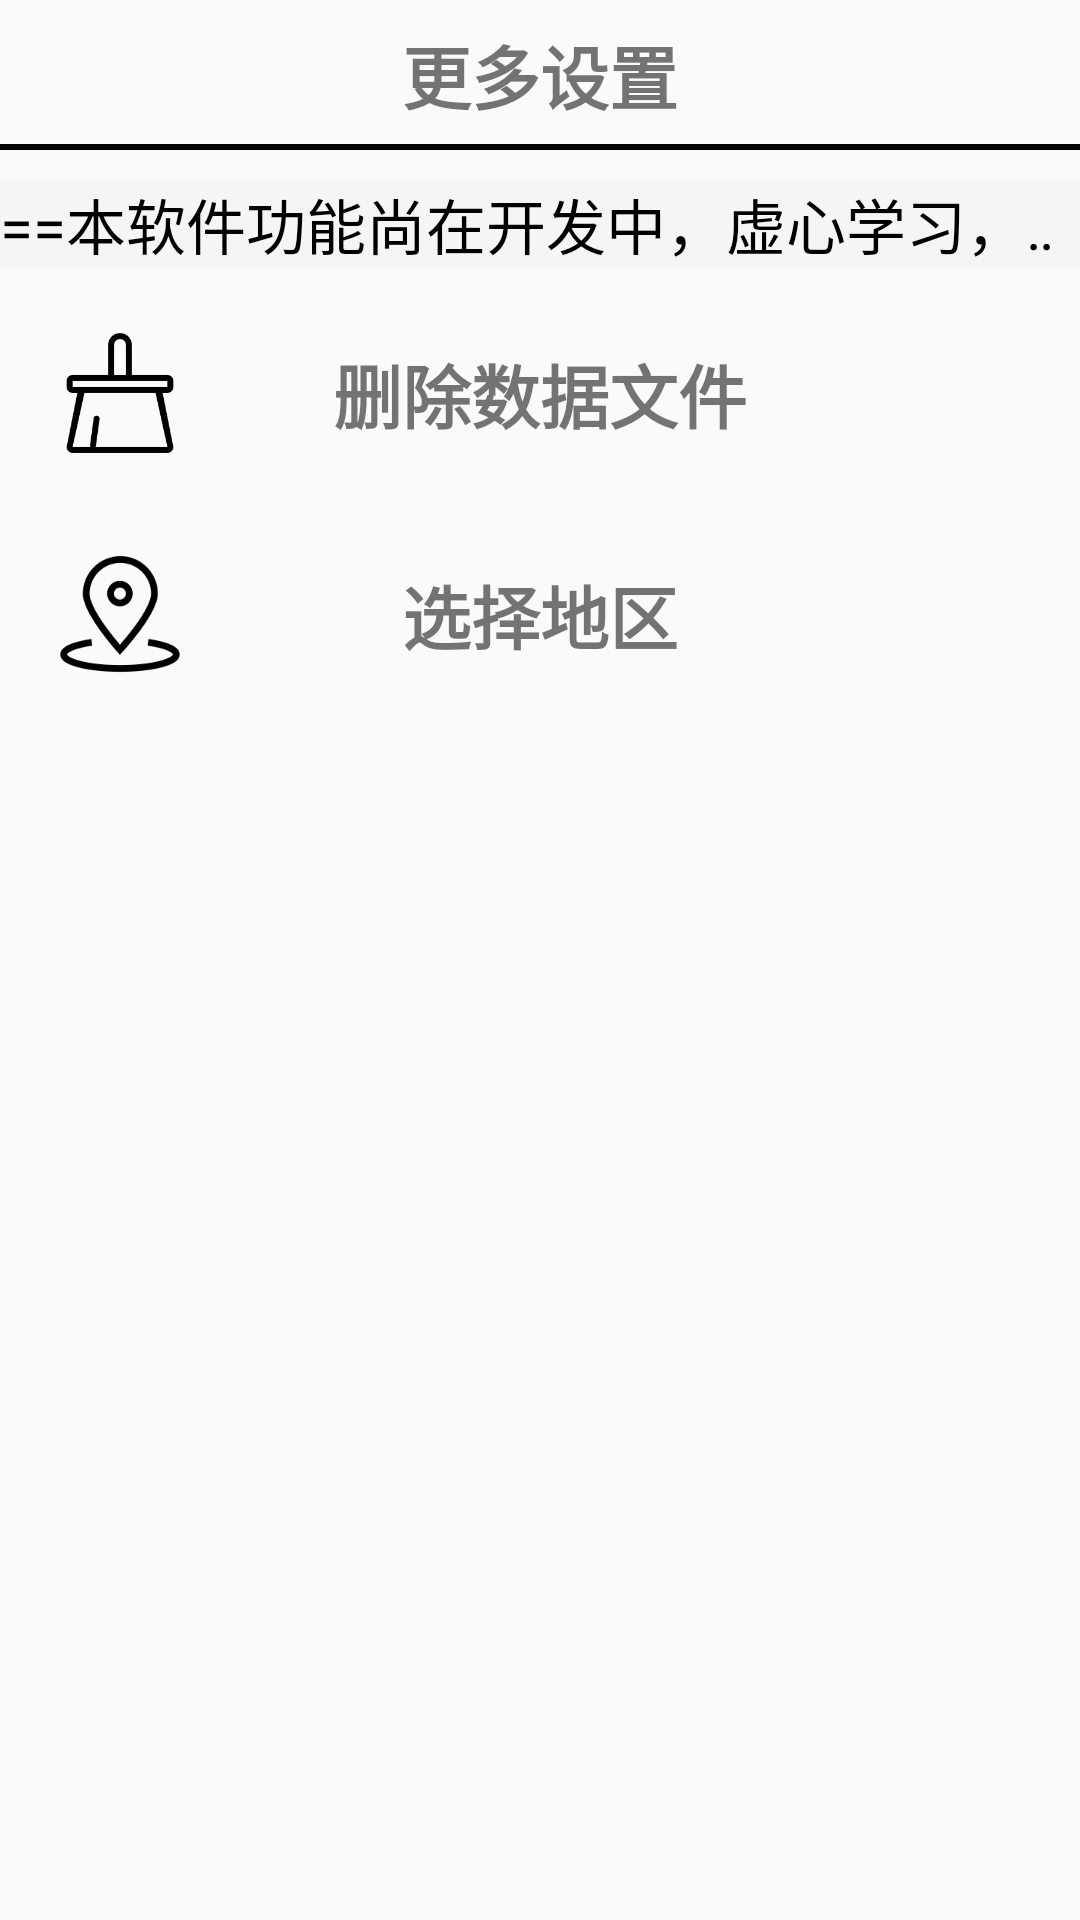

Where icons sit on this 1080*1920 app screen, as (x1, y1, x2, y2):
diqu: (60, 556, 180, 672)
qingchu: (66, 333, 174, 453)
